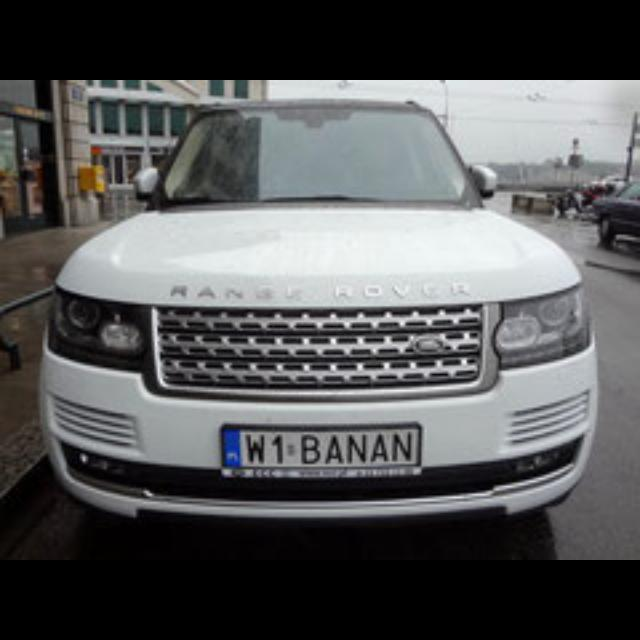pl_license_plate: (224, 426, 416, 464)
